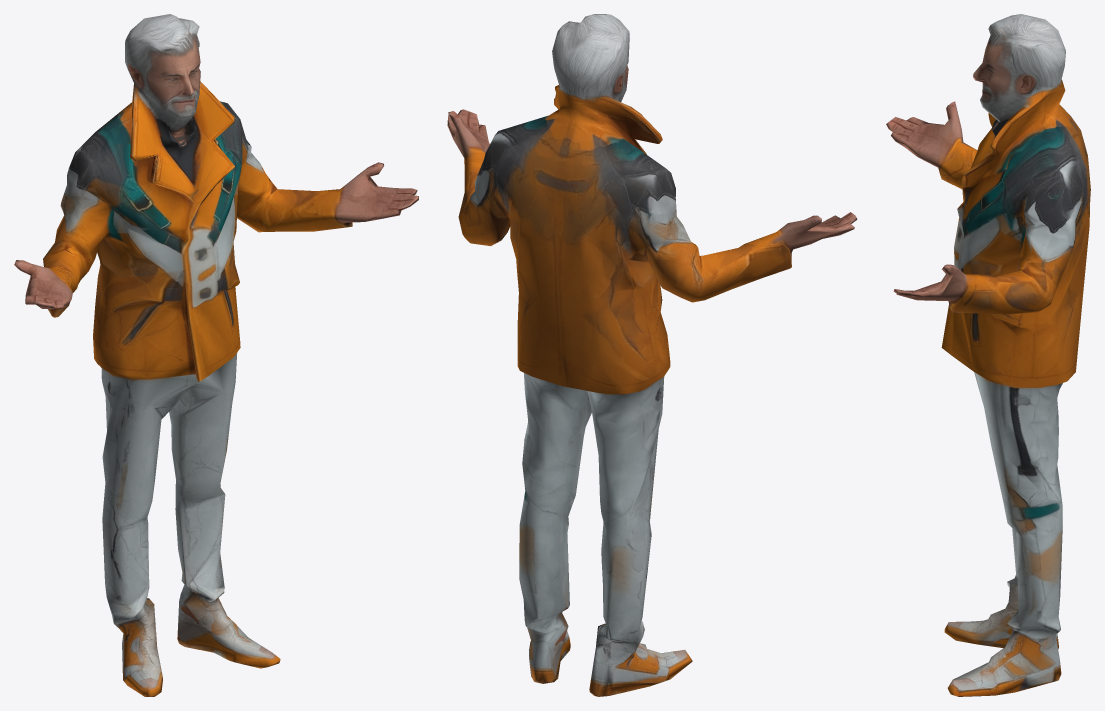
File: sarge.glb
The picture shows the model from 3 angles, left to right: view 1: azimuth 30°, elevation 25°; view 2: azimuth 150°, elevation 25°; view 3: azimuth 270°, elevation 25°; orthographic projection. The views are drawn at different scales.
Size of the model in its own units: 1.22 by 1.9 by 0.5474.
Materials: 1 (1 with a texture image).
